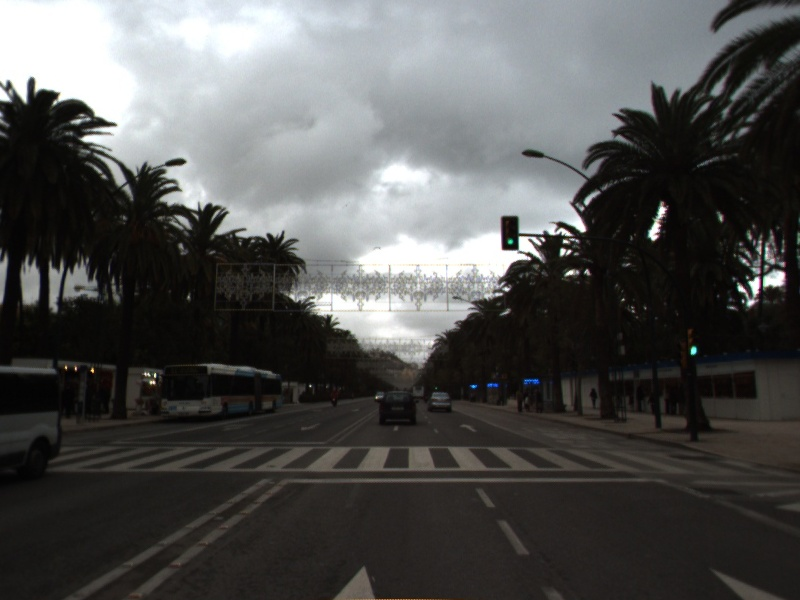STRAIGHT: (458, 422, 479, 434)
